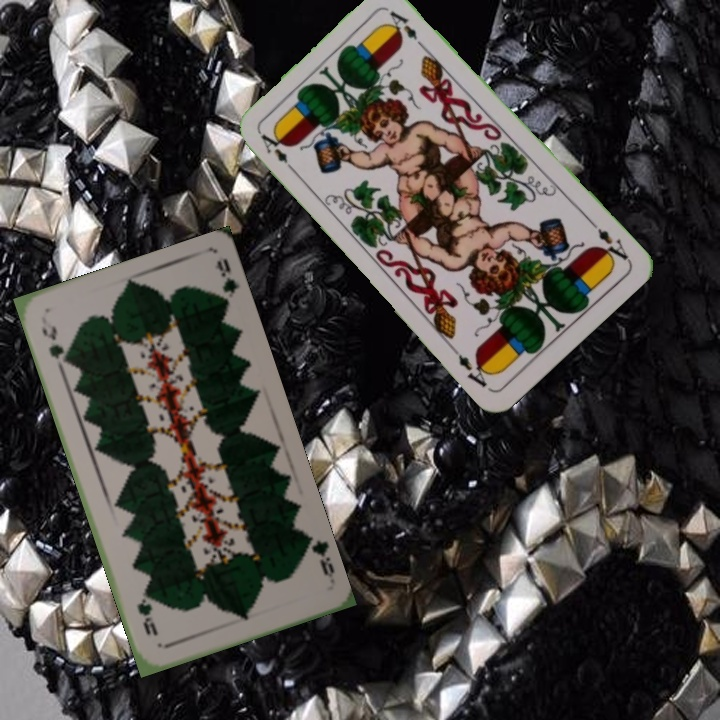EA: (586, 217, 632, 267), (256, 129, 299, 177)
G9: (301, 531, 337, 586), (38, 321, 71, 371)
